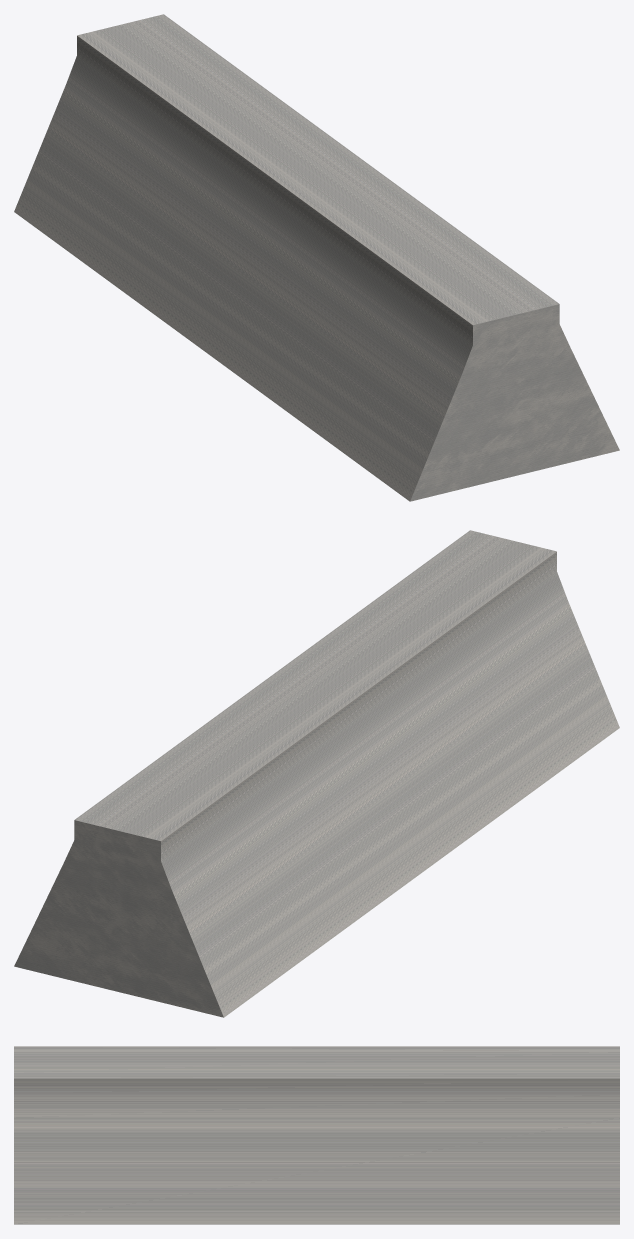
Rendered from Warehouse_Light_2.fbx.
3 views of the same model, one above another, from view 1: azimuth 30°, elevation 25°; view 2: azimuth 150°, elevation 25°; view 3: azimuth 270°, elevation 25° (orthographic). The views are drawn at different scales.
Parts seen in each view (by area): view 1: pasted__pCube3; view 2: pasted__pCube3; view 3: pasted__pCube3.
Part boxes in pixels (box(x1,y1,x2,y2)): pasted__pCube3: box(14, 14, 619, 501); pasted__pCube3: box(14, 530, 619, 1017); pasted__pCube3: box(14, 1046, 619, 1224).
Bounding box in the file's own units: 93.31 × 68.42 × 305.
1 material, 1 textured.
